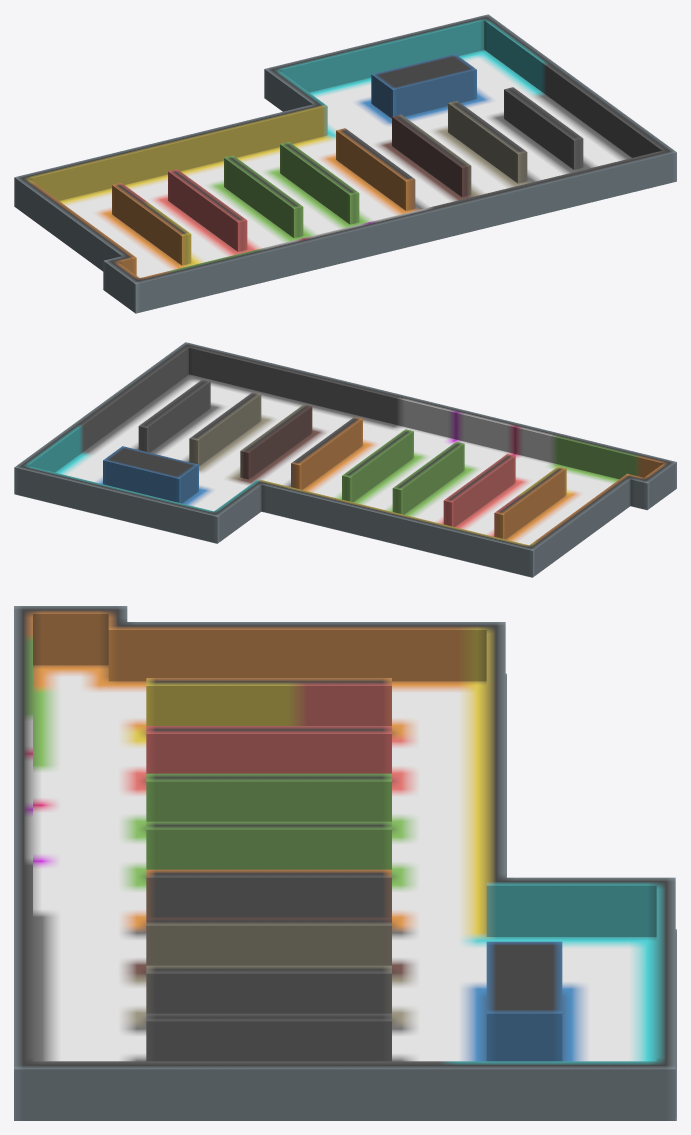
Rendered from shop2.dae.
The picture shows the model from 3 angles, top to bottom: view 1: azimuth 30°, elevation 25°; view 2: azimuth 150°, elevation 25°; view 3: azimuth 270°, elevation 25°; orthographic projection. The views are drawn at different scales.
Visible parts, largest first — view 1: Plane.003, Plane.004; view 2: Plane.003, Plane.004, Plane.002; view 3: Plane.003, Plane.004, Plane.002.
Part boxes in pixels (box(x1,y1,x2,y2)): Plane.003: box(14, 14, 676, 313); Plane.004: box(59, 50, 631, 277); Plane.003: box(14, 342, 676, 577); Plane.004: box(55, 374, 618, 545); Plane.002: box(14, 494, 647, 577); Plane.003: box(14, 606, 675, 1120); Plane.004: box(33, 665, 656, 1061); Plane.002: box(505, 673, 676, 1120).
Size of the model in its own units: 58 by 35.07 by 3.01.
1 material, 1 textured.
